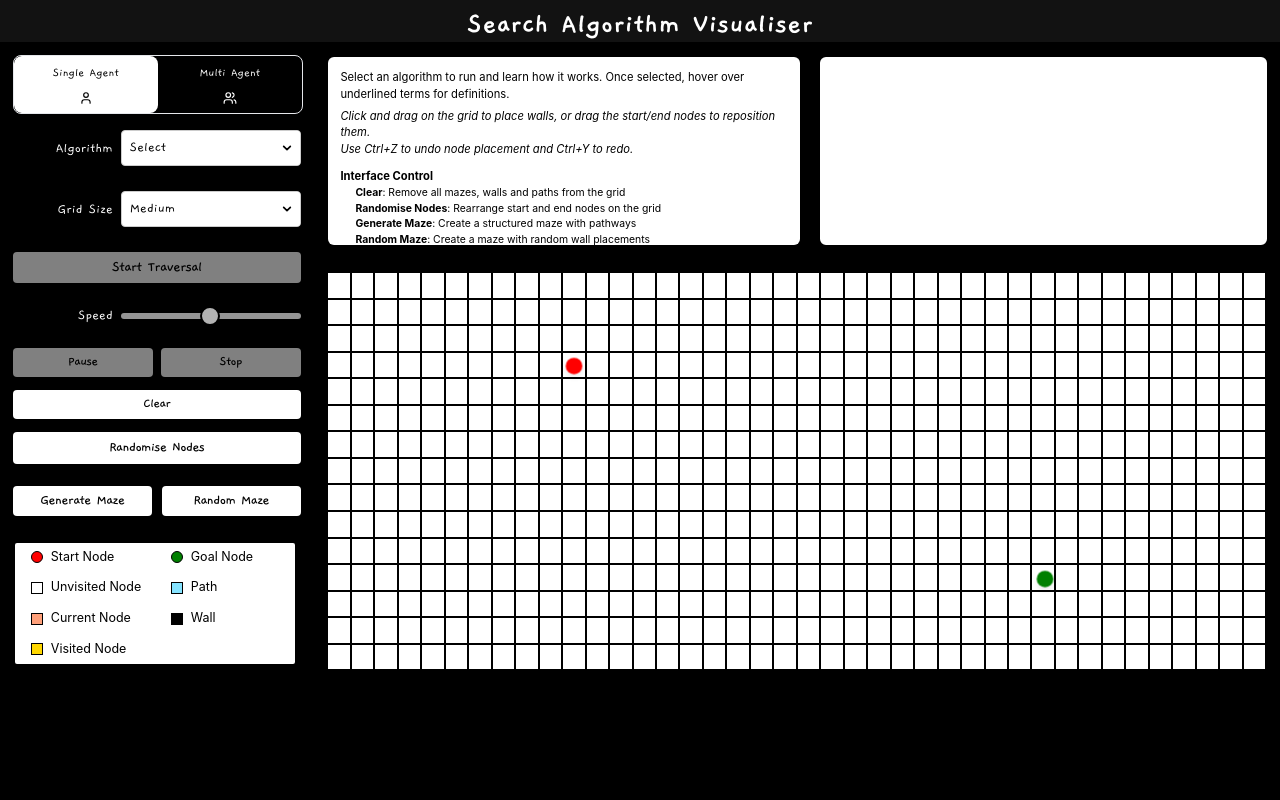
Algorithm Visualizer › enables start button when algorithm is selected
Expected: the header with id "app-header" is shown, [0,0,1279,42]
Expected: the button with id "start-traversal-btn" is disabled, [13,252,301,282]
Select "Breadth First Search" in the dropdown with id "algorithm" at (211, 148), box [121,130,301,166]
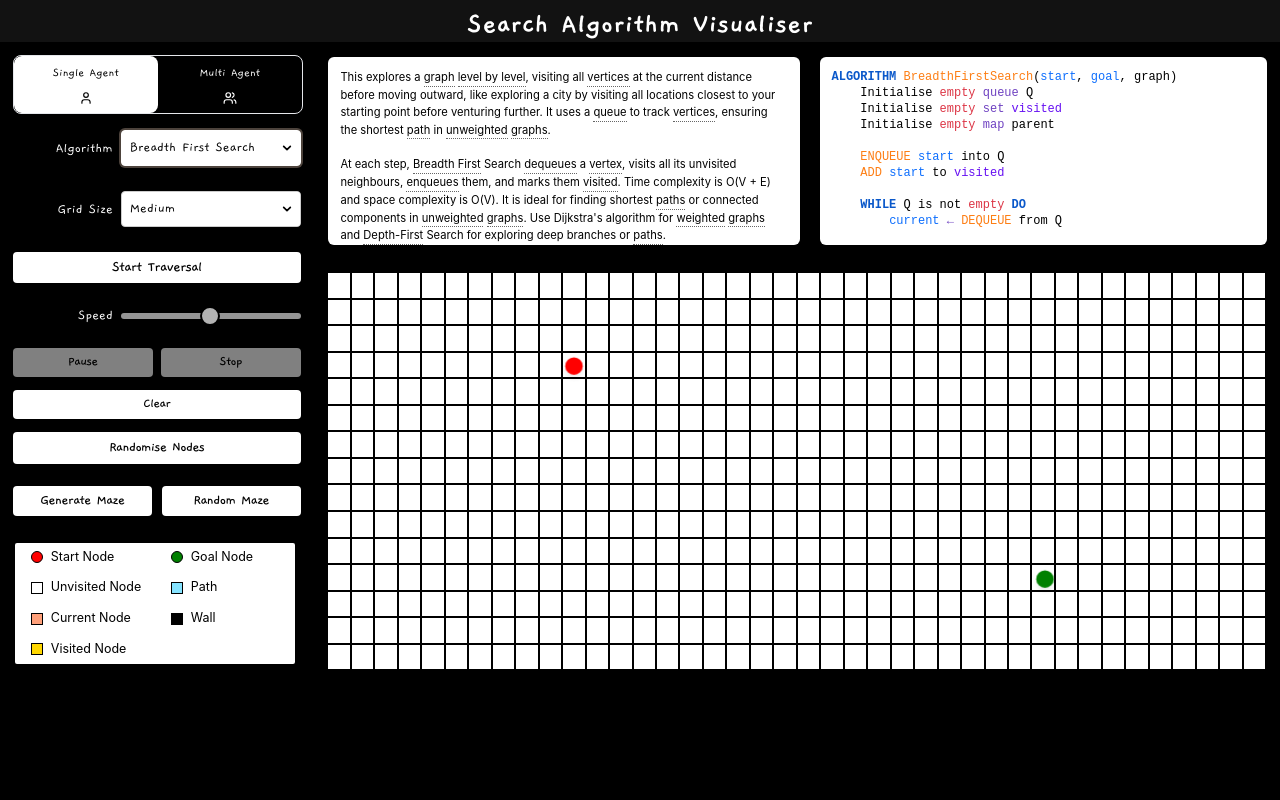
Expected: the button with id "start-traversal-btn" is enabled, [13,252,301,282]
